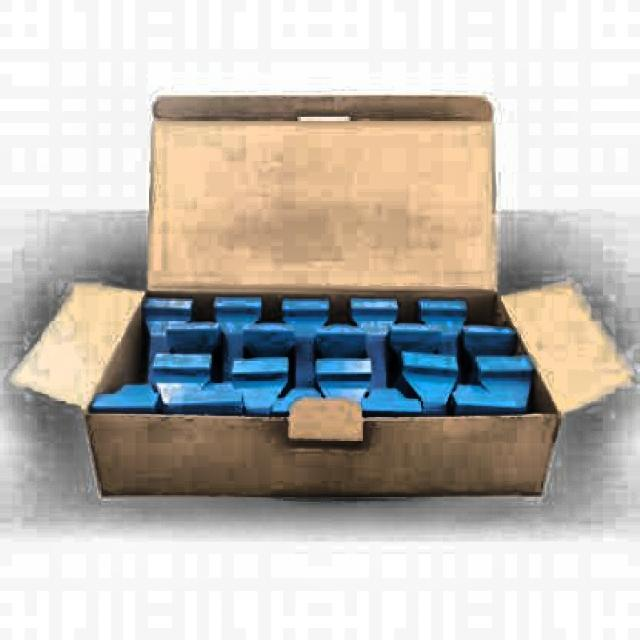Cardbox: (149, 95, 495, 288), (108, 291, 502, 426), (115, 378, 521, 493), (496, 282, 637, 419), (7, 280, 151, 411), (190, 392, 450, 456), (378, 300, 479, 417), (288, 398, 362, 440), (92, 383, 158, 412)
